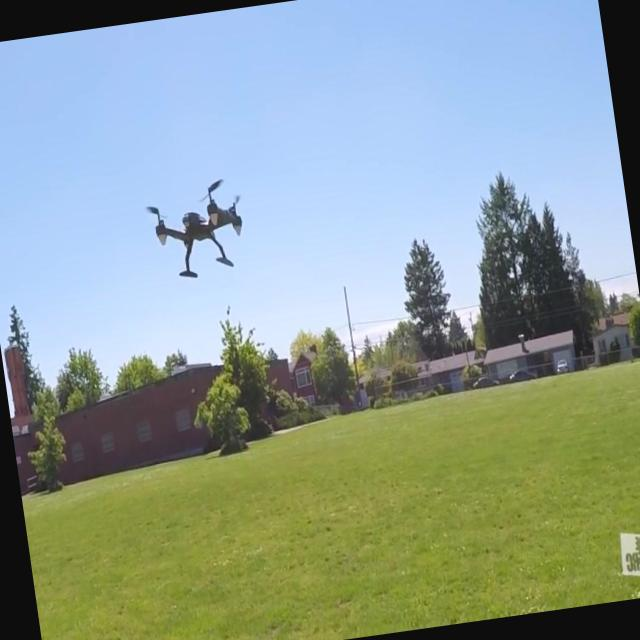drone: (143, 174, 253, 289)
